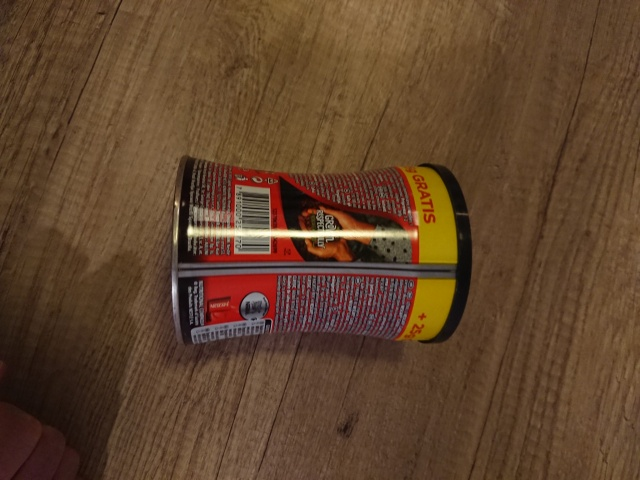Nescafe Classic 225g: (167, 151, 477, 351)
